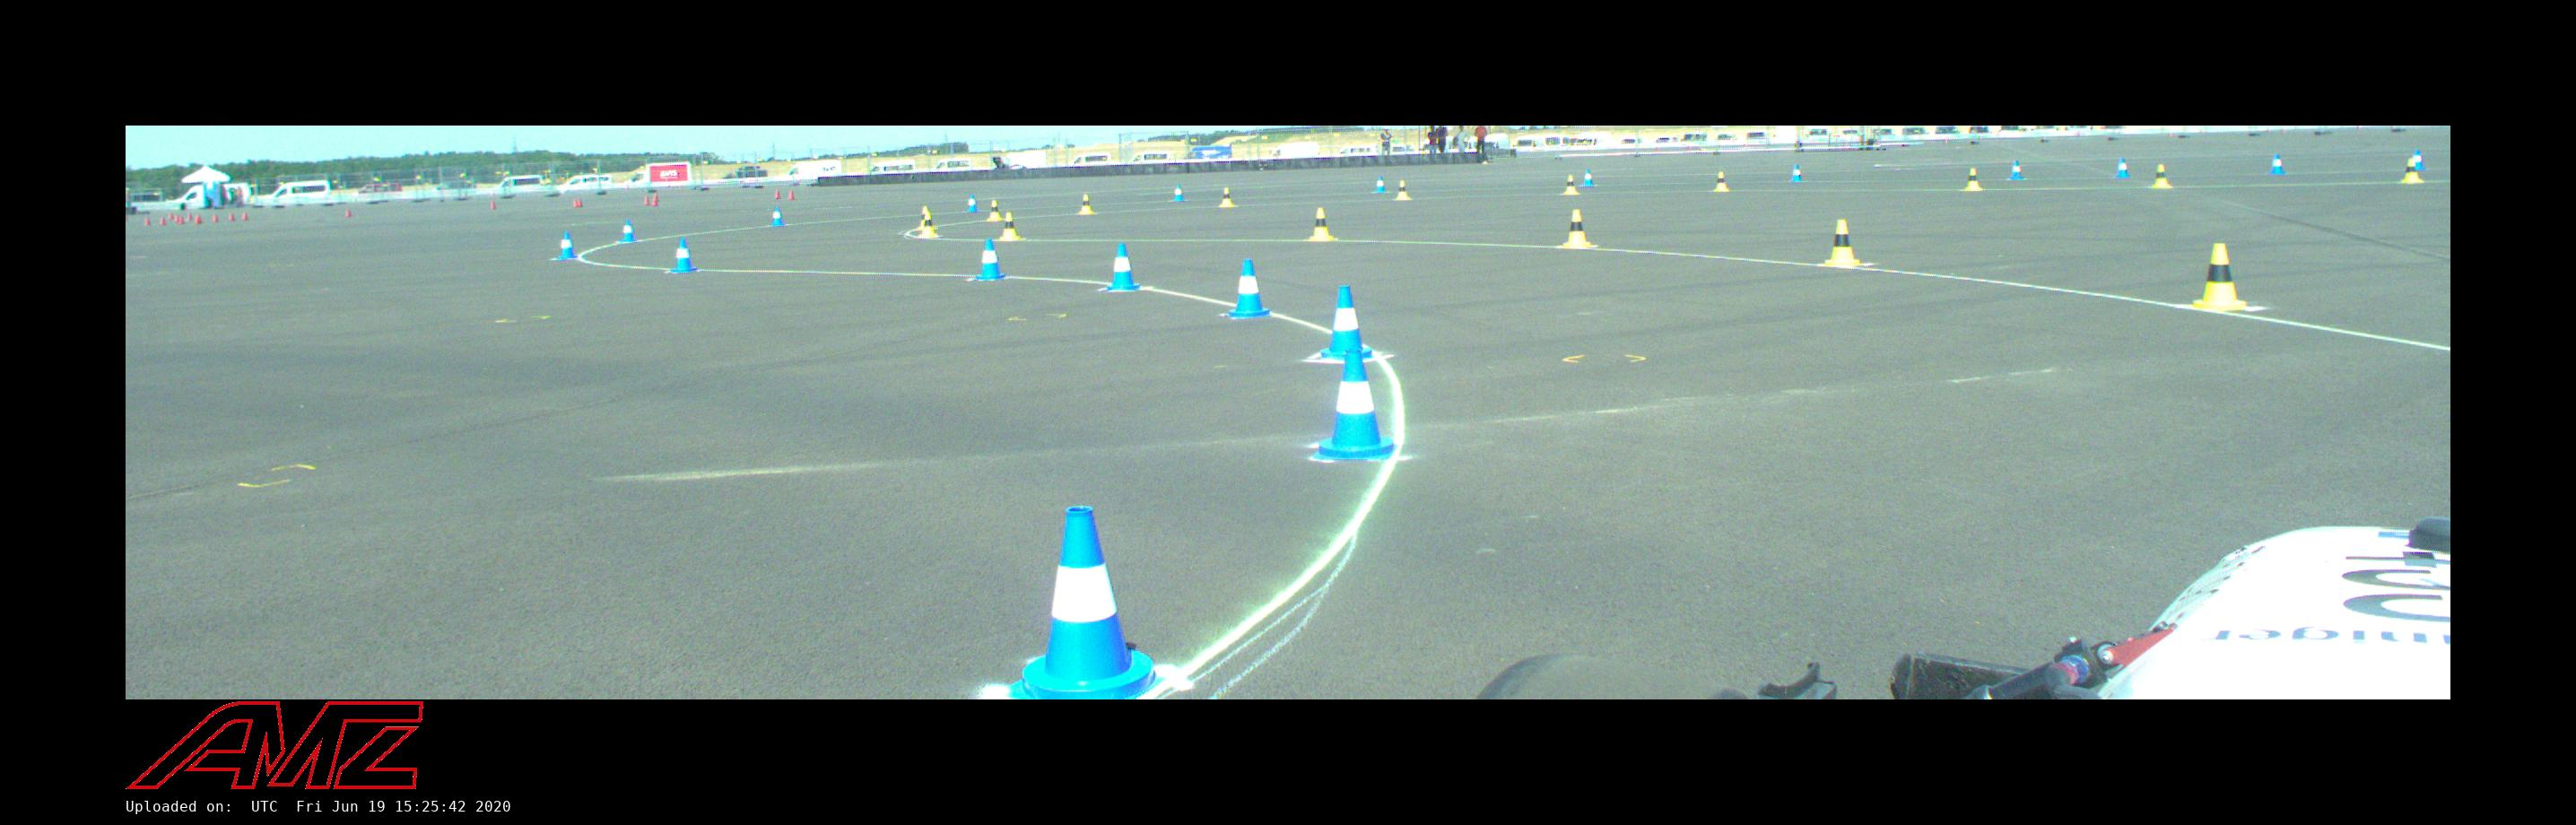blue_cone: (1007, 508, 1165, 700), (1314, 348, 1396, 460), (1314, 286, 1377, 360), (1227, 260, 1272, 319), (1106, 243, 1140, 291), (974, 238, 1004, 279), (669, 238, 698, 273), (557, 232, 578, 260), (619, 219, 637, 243), (2408, 150, 2425, 171), (2270, 154, 2285, 174), (770, 207, 785, 227), (2116, 158, 2131, 177), (2009, 161, 2024, 179), (1373, 176, 1387, 192), (968, 194, 979, 212), (1791, 164, 1802, 181), (1173, 184, 1184, 200), (1582, 171, 1594, 184)
yellow_cone: (2192, 243, 2246, 311), (1824, 220, 1860, 266), (1564, 209, 1590, 248), (1309, 207, 1332, 240), (999, 214, 1020, 240), (918, 212, 938, 238), (2402, 159, 2423, 182), (915, 205, 933, 230), (2152, 164, 2170, 186), (1217, 186, 1234, 207), (1965, 168, 1980, 191), (1714, 171, 1730, 191), (1079, 194, 1094, 214), (1562, 174, 1577, 194), (987, 199, 1001, 220), (1396, 181, 1410, 200)
